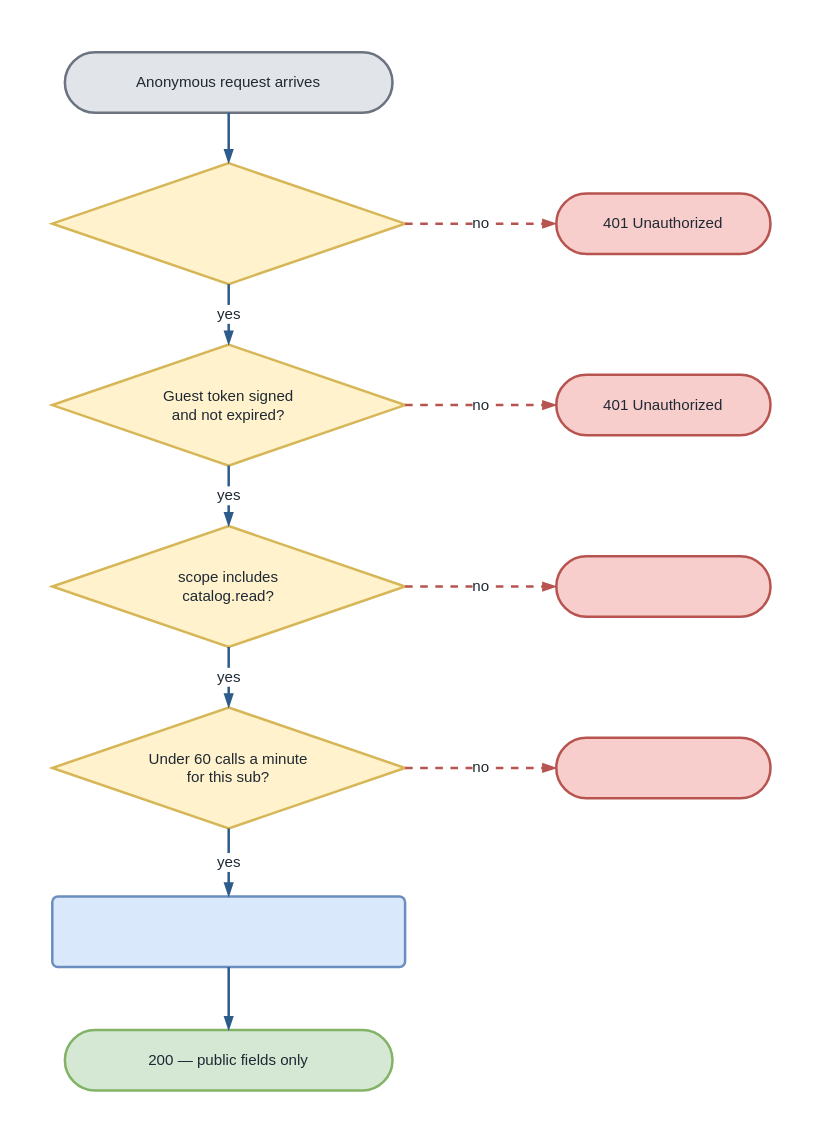
The diagram is 822 pixels wide and 1142 high, and some of its shapes have lost their labels. The shapes that lost their labels are listed below. From the top down, each one's centre as x and y in pixels, then its label:
At pixel 228 223: "Attestation header present and valid?".
At pixel 662 585: "403 Forbidden".
At pixel 662 767: "429 Too Many Requests".
At pixel 228 931: "Query released items, map to CatalogPublicDto".
